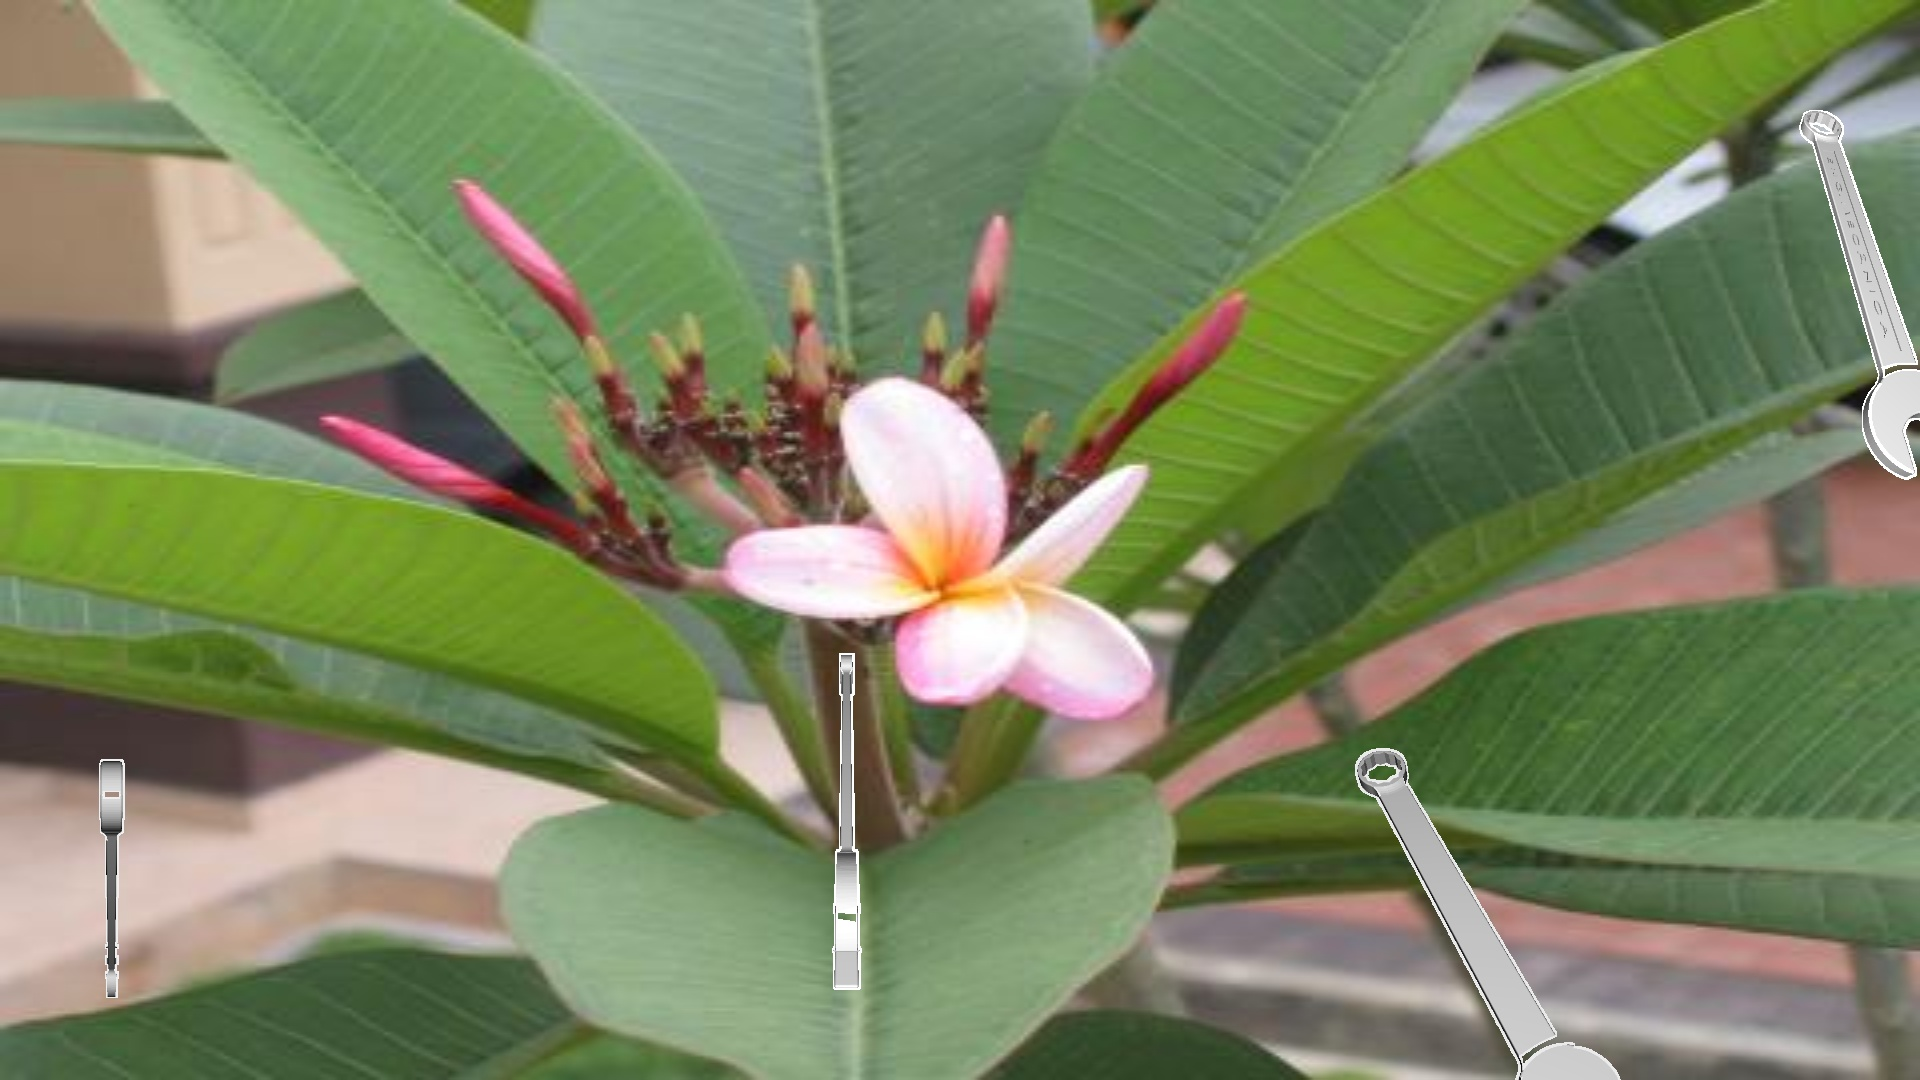Mixed Key: (1429, 679, 1876, 1033), (1356, 748, 1619, 1079), (1622, 11, 1919, 301), (1799, 109, 1919, 479), (832, 653, 861, 989), (99, 760, 124, 997)
